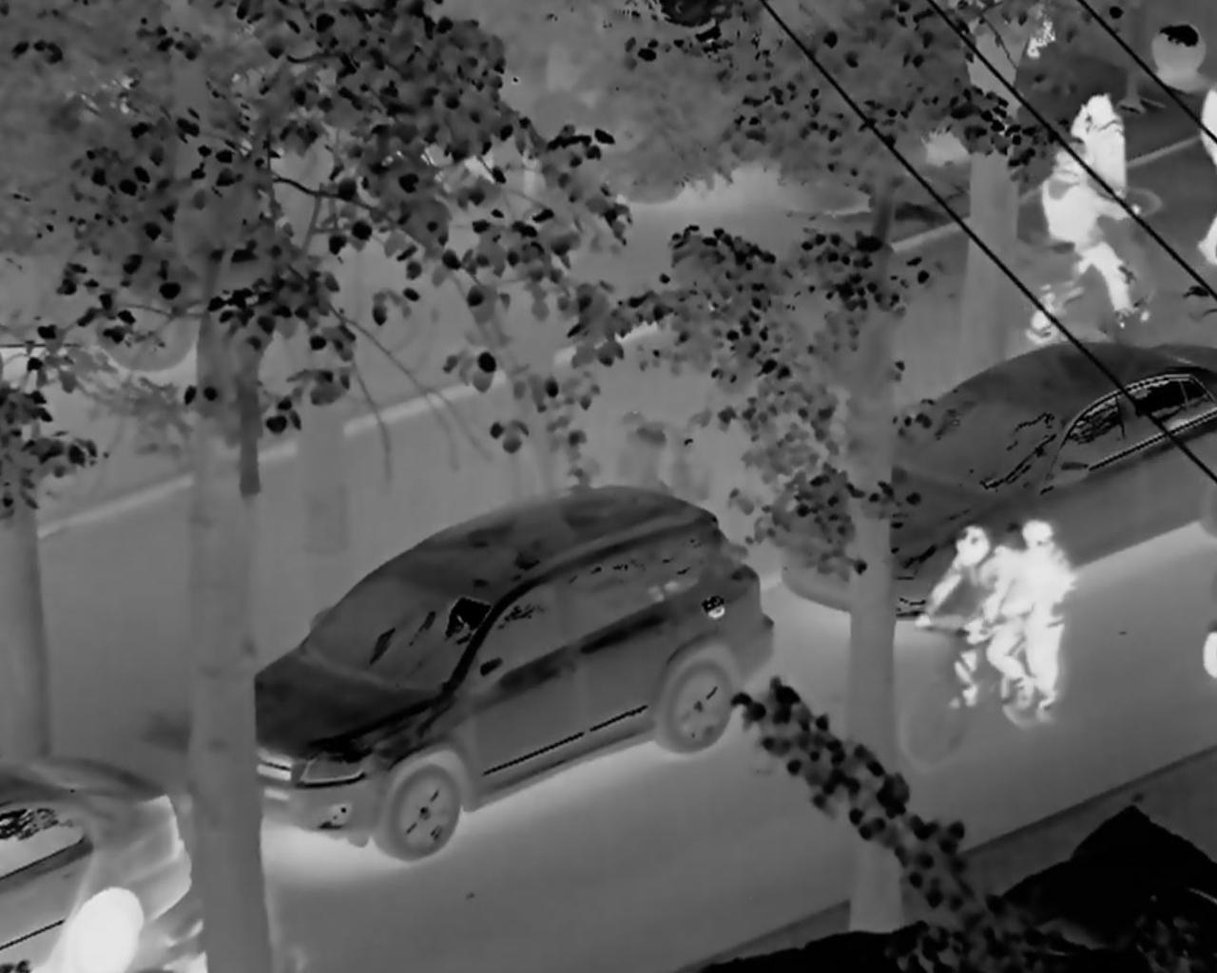person: (1013, 131, 1135, 351), (923, 527, 1024, 705), (1040, 78, 1146, 242), (1007, 519, 1067, 728)
